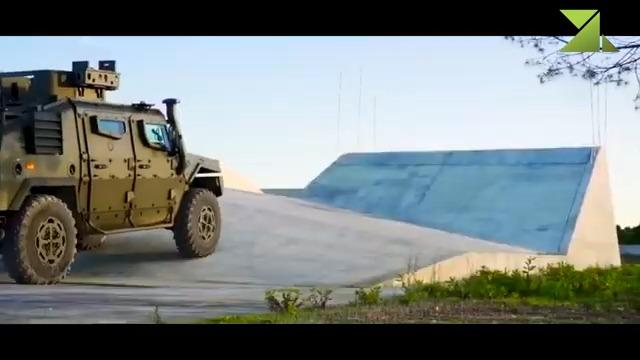MIL_HMMWV: (1, 96, 225, 285)
